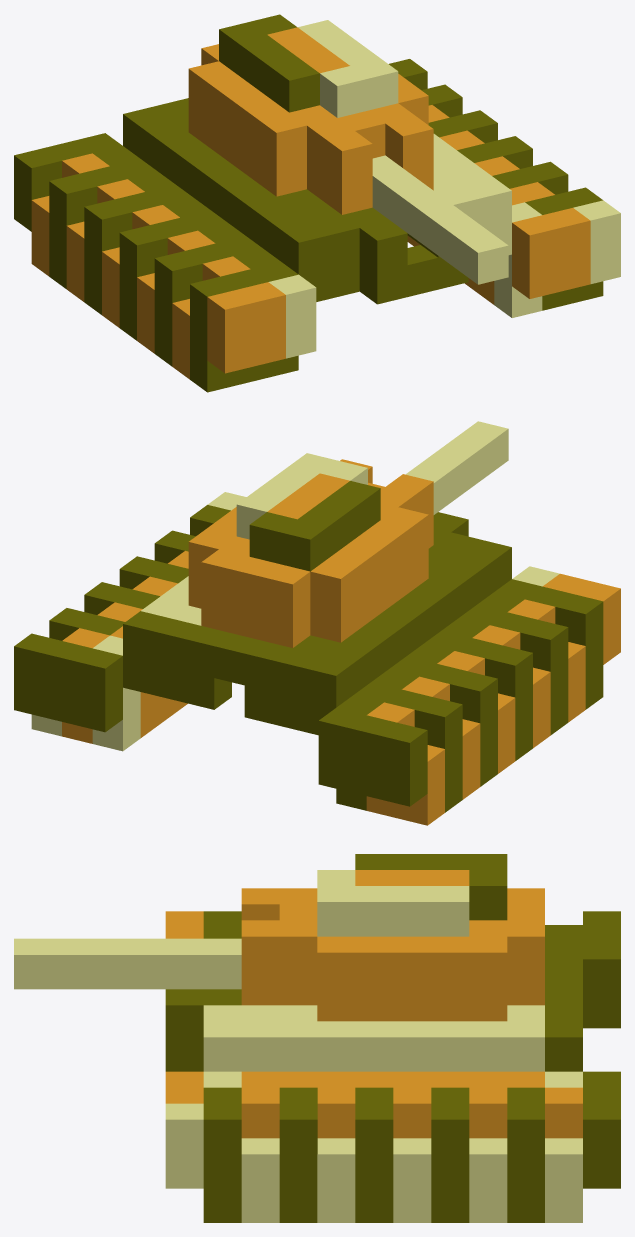
File: YellowTankT2.fbx
3 views of the same model, one above another, from view 1: azimuth 30°, elevation 25°; view 2: azimuth 150°, elevation 25°; view 3: azimuth 270°, elevation 25° (orthographic). The views are drawn at different scales.
Parts seen in each view (by area): view 1: BC1.004; view 2: BC1.004; view 3: BC1.004.
Part boxes in pixels (x1=…): BC1.004: x1=14, y1=14, x2=620, y2=392; BC1.004: x1=14, y1=421, x2=620, y2=825; BC1.004: x1=14, y1=854, x2=620, y2=1222.
Bounding box in the file's own units: 1300 × 700 × 1600.
